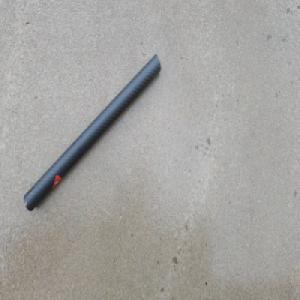LuggagePart: (22, 53, 161, 215)
